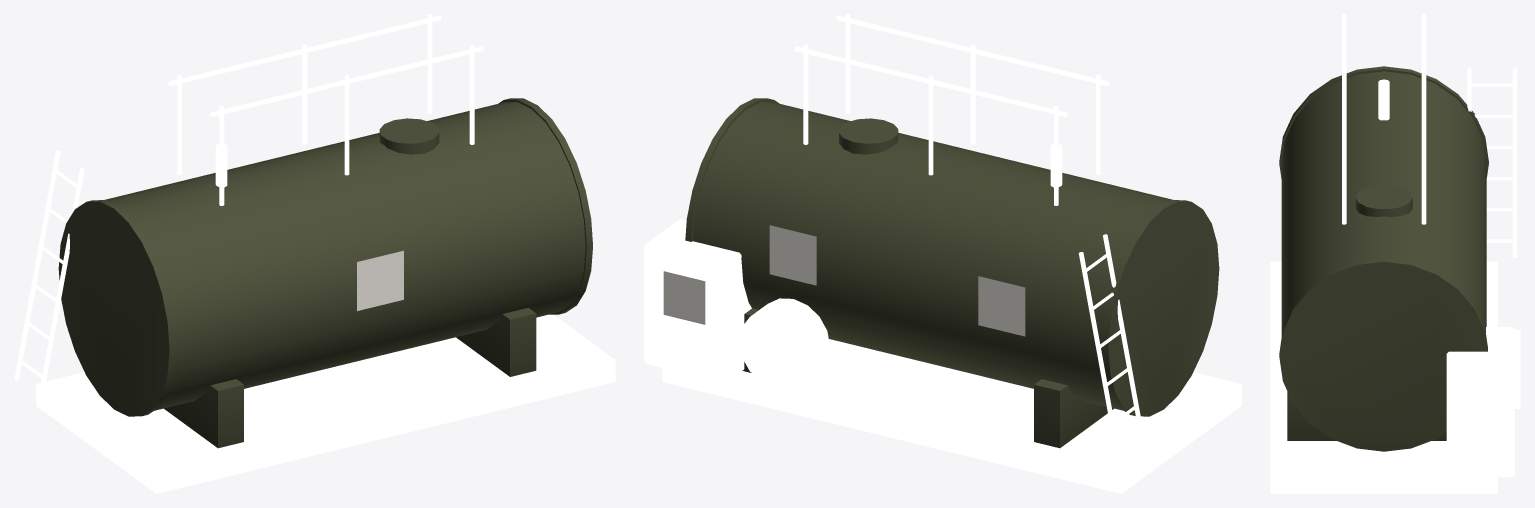
File: fuel_tank_skid.glb
3 views of the same model, side by side, from view 1: azimuth 30°, elevation 25°; view 2: azimuth 150°, elevation 25°; view 3: azimuth 270°, elevation 25° (orthographic). The views are drawn at different scales.
Visible parts, largest first — view 1: fuel_tank_skid_LOD0; view 2: fuel_tank_skid_LOD0; view 3: fuel_tank_skid_LOD0.
Boxes of the visible parts, left/top/right/bottom form: fuel_tank_skid_LOD0: left=14, top=14, right=615, bottom=493; fuel_tank_skid_LOD0: left=644, top=14, right=1241, bottom=493; fuel_tank_skid_LOD0: left=1270, top=14, right=1520, bottom=493.
Size of what is drawn, in the model's own units: 4.62 by 3.05 by 2.2.
